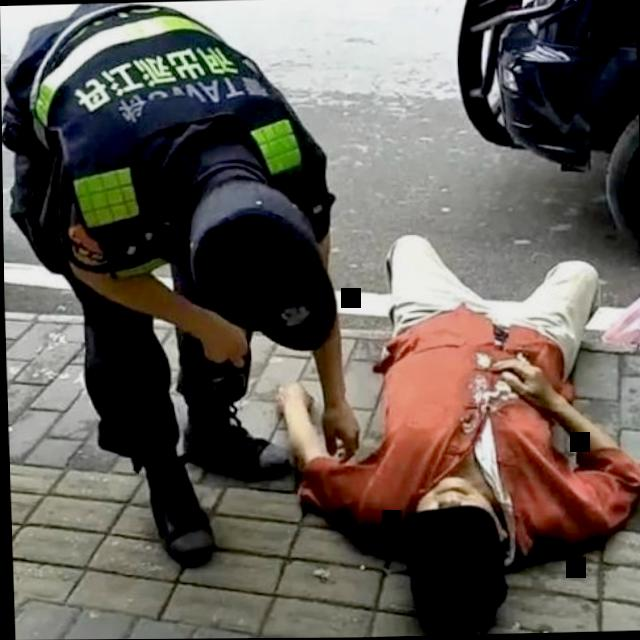Fall-Detected: (270, 201, 640, 624)
